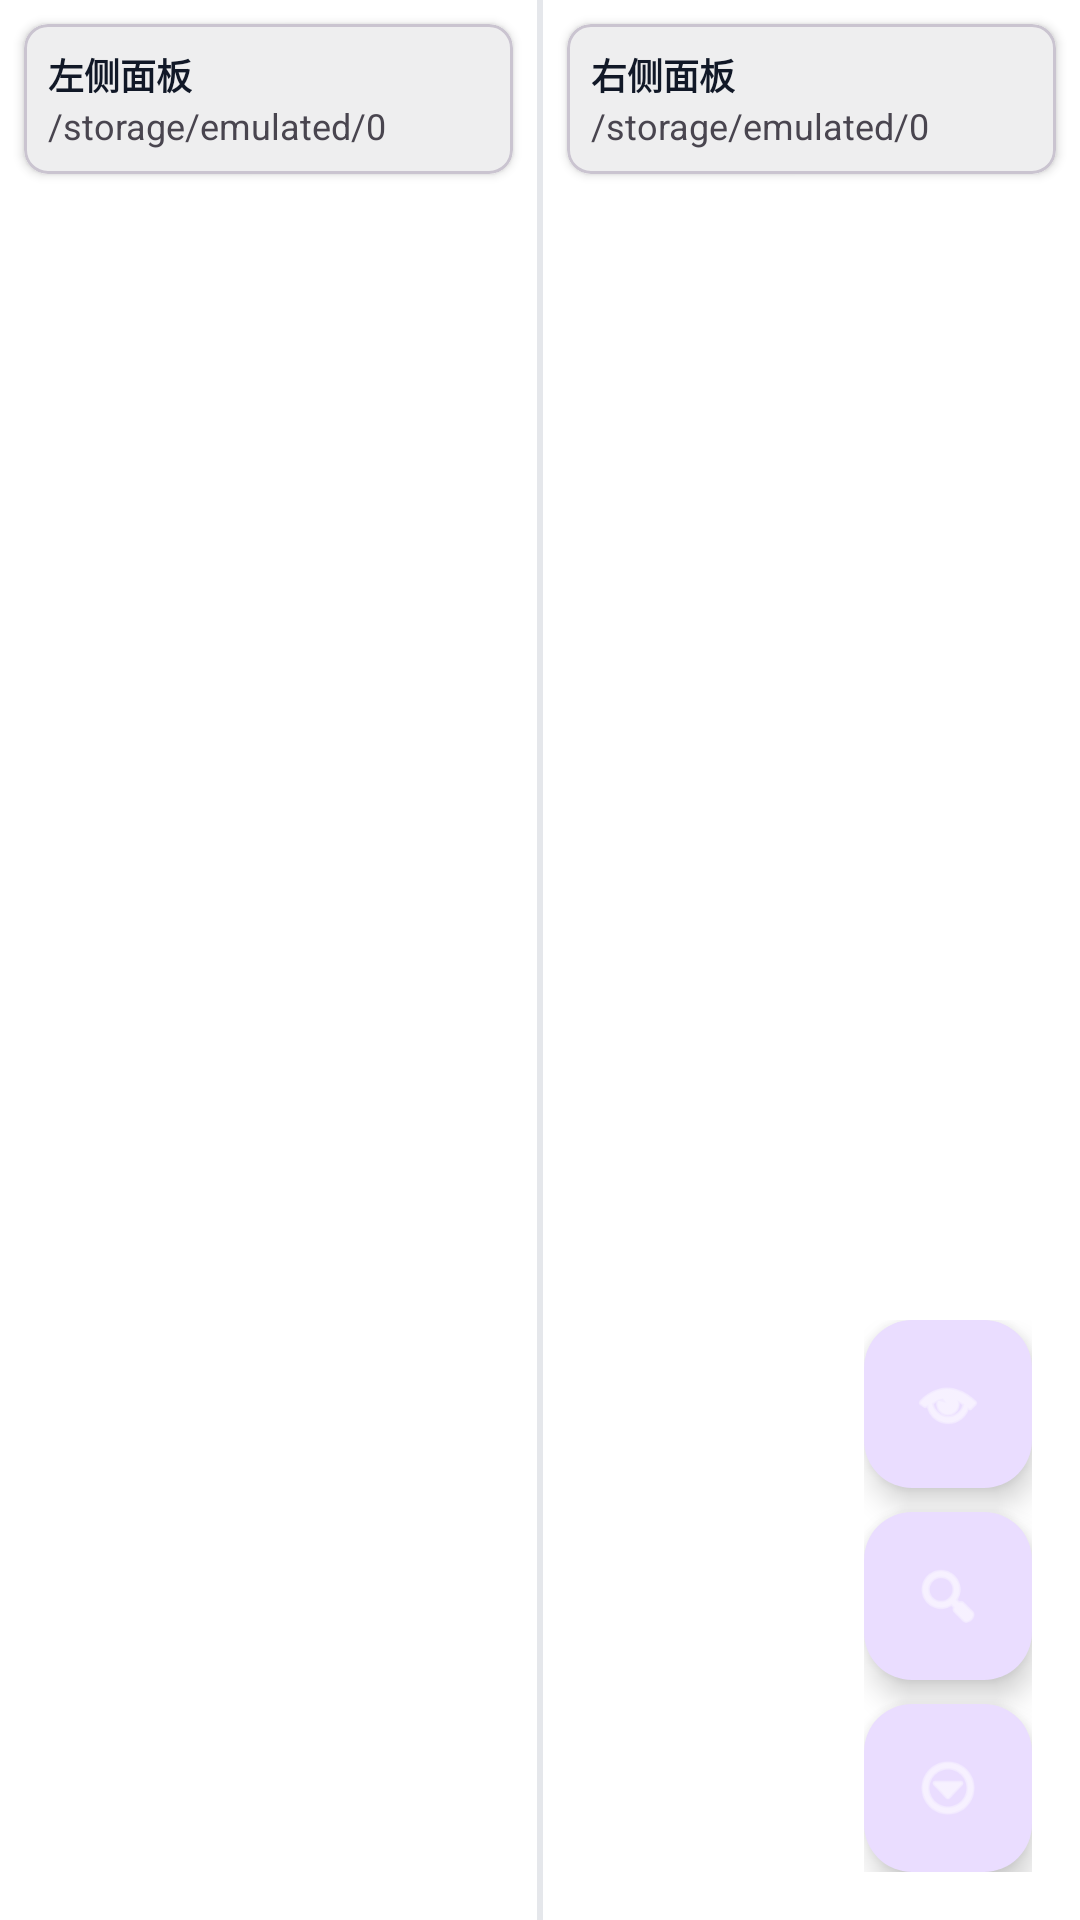

Icon bounding boxes for this 1080×1920 phone screenshot, format (x1, y1, x2, y2):
more: (864, 1704, 1032, 1872)
search: (864, 1512, 1032, 1680)
view: (864, 1320, 1032, 1488)
